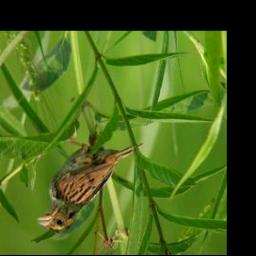Sparrow: (35, 120, 147, 236)
